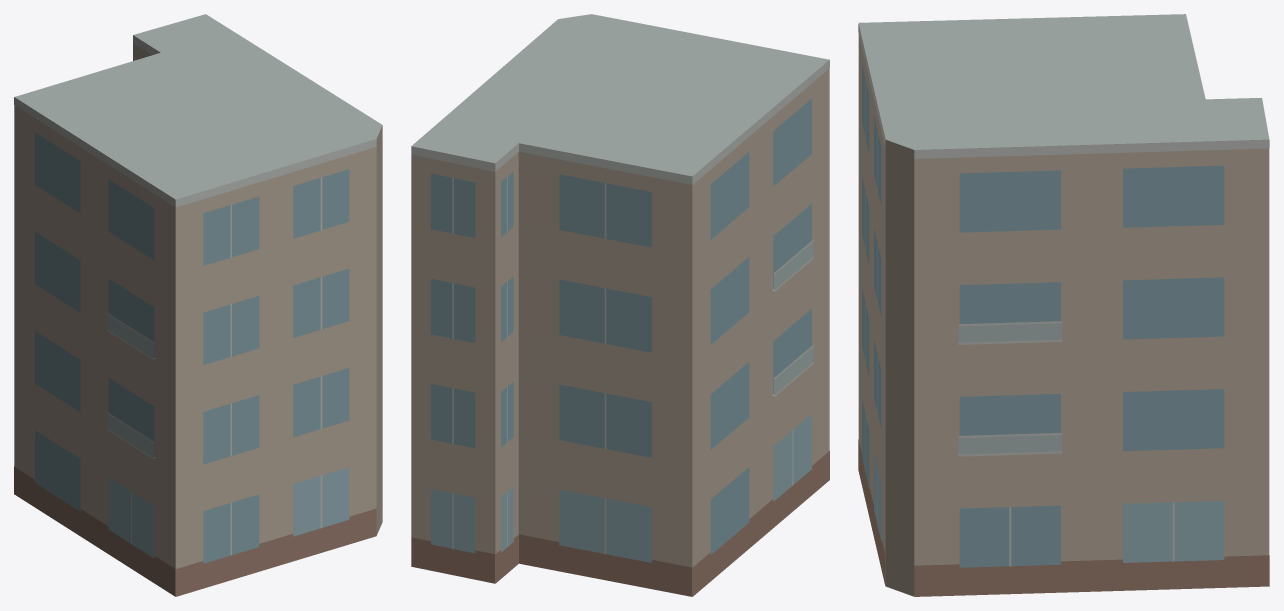
Rendered from survey-upis-32709063.glb.
The picture shows the model from 3 angles, left to right: view 1: azimuth 30°, elevation 25°; view 2: azimuth 150°, elevation 25°; view 3: azimuth 270°, elevation 25°; orthographic projection. The views are drawn at different scales.
Parts seen in each view (by area): view 1: survey-upis-32709063.tmp; view 2: survey-upis-32709063.tmp; view 3: survey-upis-32709063.tmp.
Part boxes in pixels (x1,y1,x2,y2): survey-upis-32709063.tmp: [14, 14, 382, 596]; survey-upis-32709063.tmp: [411, 14, 829, 596]; survey-upis-32709063.tmp: [858, 14, 1269, 596].
Size of the model in its own units: 7.97 by 12.2 by 10.18.
